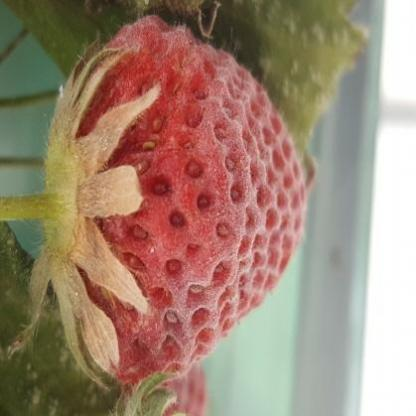Strawberry_Powdery_Mildew_Fruit: (53, 14, 308, 384)
